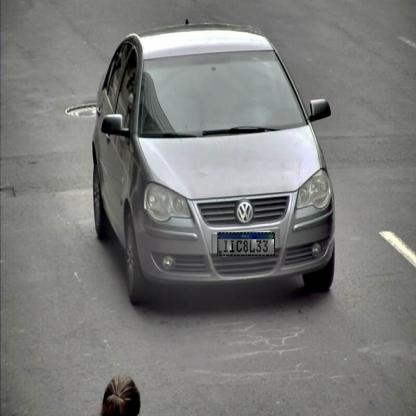PlacaM: (217, 232, 275, 256)
